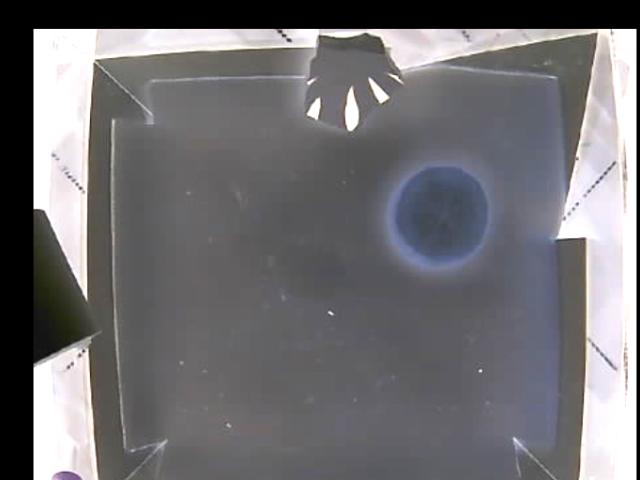China: (309, 32, 402, 133)
Mooli: (386, 163, 493, 271)
